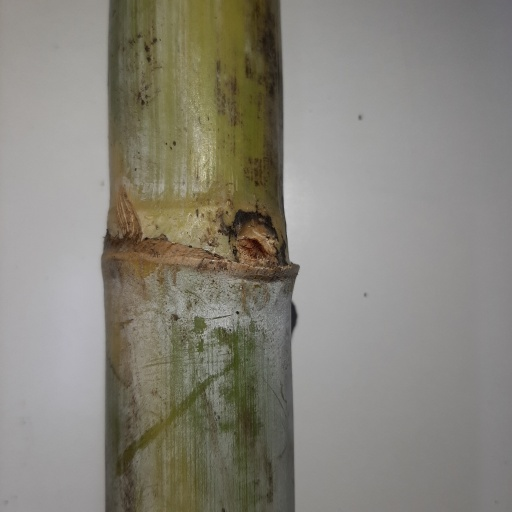Damage_Bud: (234, 216, 281, 264)
